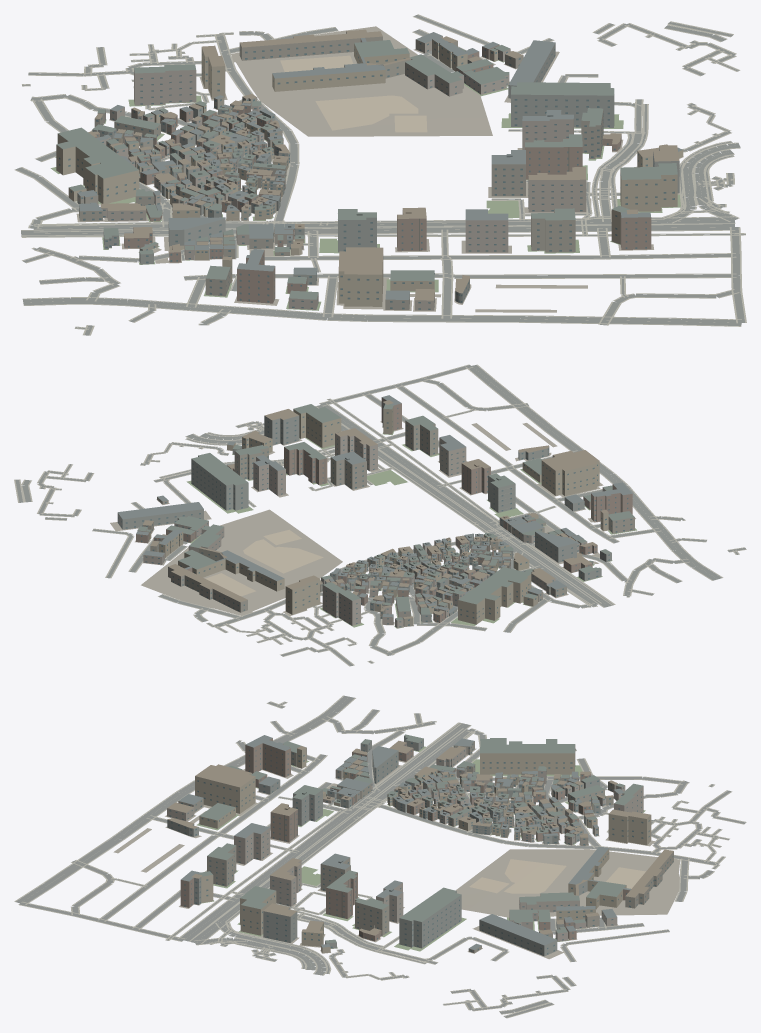
The picture shows the model from 3 angles, top to bottom: view 1: azimuth 30°, elevation 25°; view 2: azimuth 150°, elevation 25°; view 3: azimuth 270°, elevation 25°; orthographic projection. The views are drawn at different scales.
Visible parts, largest first — view 1: context-osm-buildings, context-osm-roads, context-osm-sidewalks, context-building-plinths; view 2: context-osm-buildings, context-osm-roads, context-osm-sidewalks, context-building-plinths; view 3: context-osm-buildings, context-osm-roads, context-osm-sidewalks, context-building-plinths.
Part boxes in pixels (bbox=[...]): context-osm-buildings: bbox=[56, 29, 683, 310]; context-osm-roads: bbox=[16, 15, 745, 335]; context-osm-sidewalks: bbox=[14, 14, 746, 335]; context-building-plinths: bbox=[50, 26, 683, 312]; context-osm-buildings: bbox=[117, 395, 634, 628]; context-osm-roads: bbox=[15, 365, 745, 666]; context-osm-sidewalks: bbox=[14, 364, 746, 666]; context-building-plinths: bbox=[110, 421, 636, 628]; context-osm-buildings: bbox=[167, 734, 673, 956]; context-osm-roads: bbox=[16, 695, 745, 1017]; context-osm-sidewalks: bbox=[14, 695, 746, 1018]; context-building-plinths: bbox=[113, 746, 680, 959].
Size of the model in its own units: 790 by 32.26 by 755.
